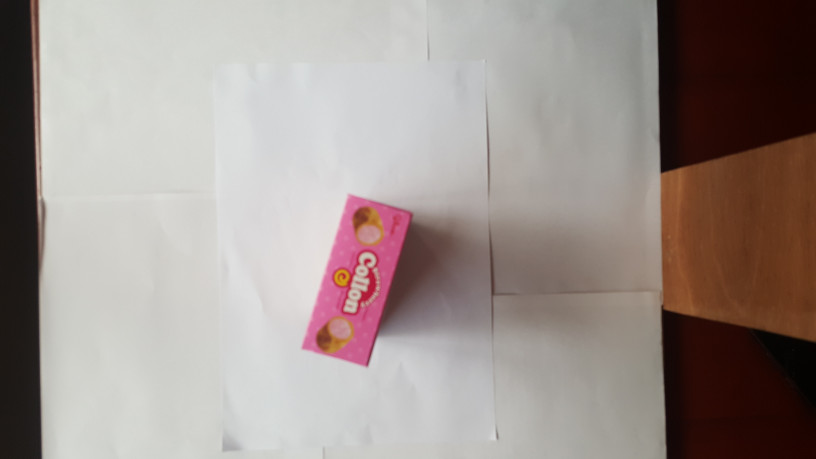collon-strawberry: (301, 189, 419, 369)
